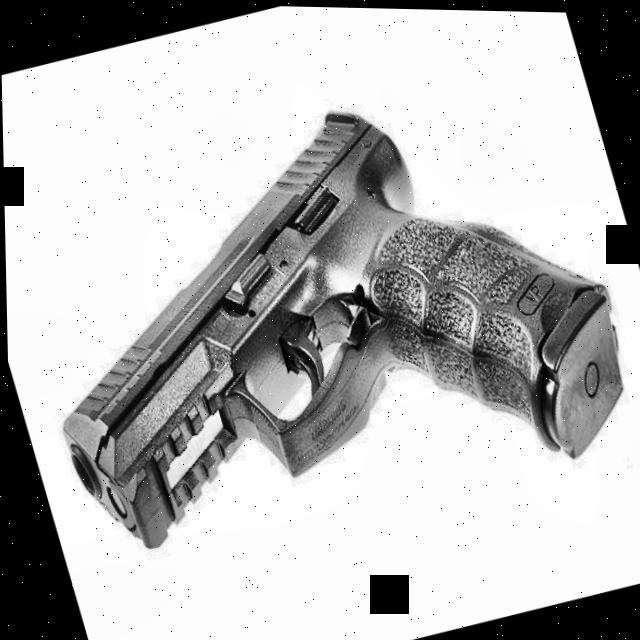HKVP9: (1, 43, 640, 586)
